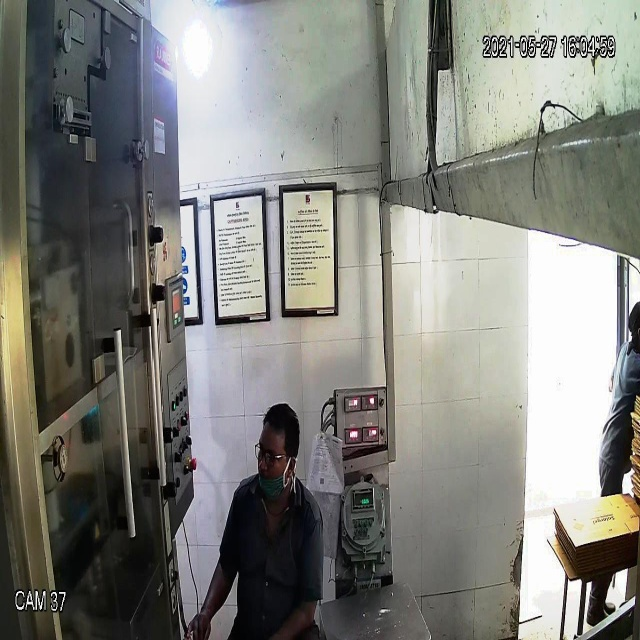Gafas: (254, 441, 295, 470)
